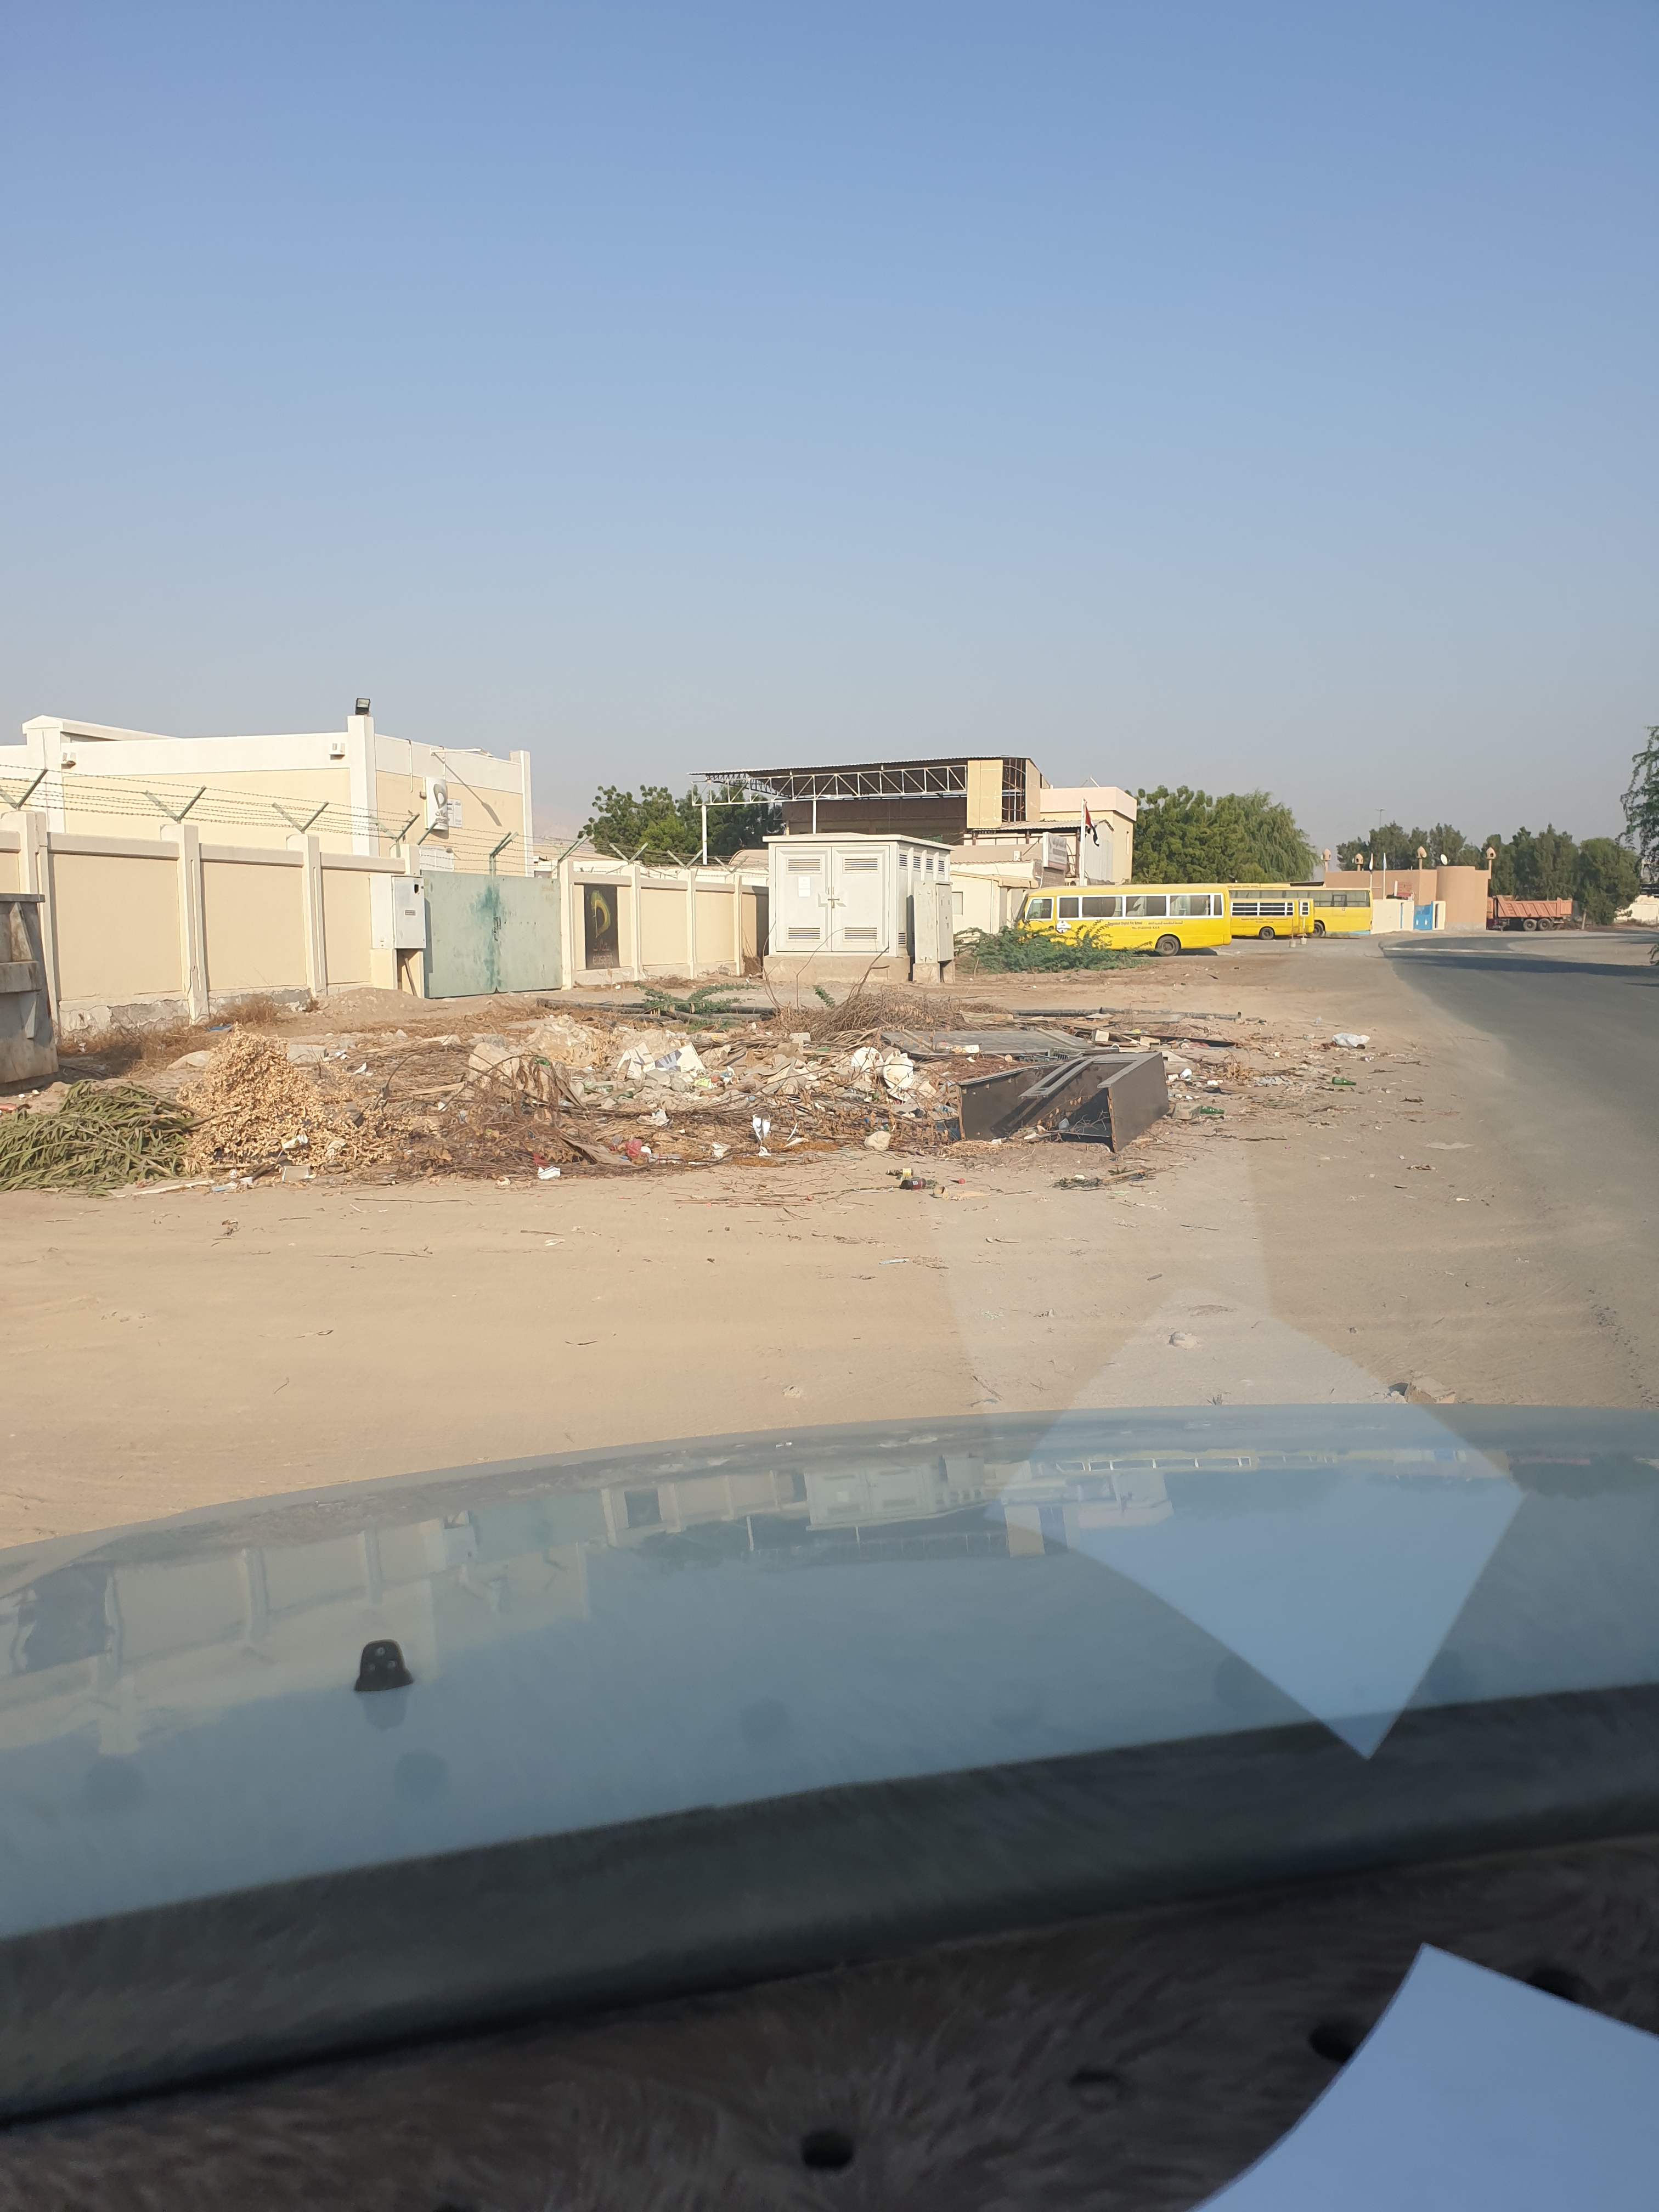fallen_trees: (190, 1033, 512, 1216), (17, 1066, 300, 1216)
uncollected_waste: (946, 1055, 1197, 1169)
